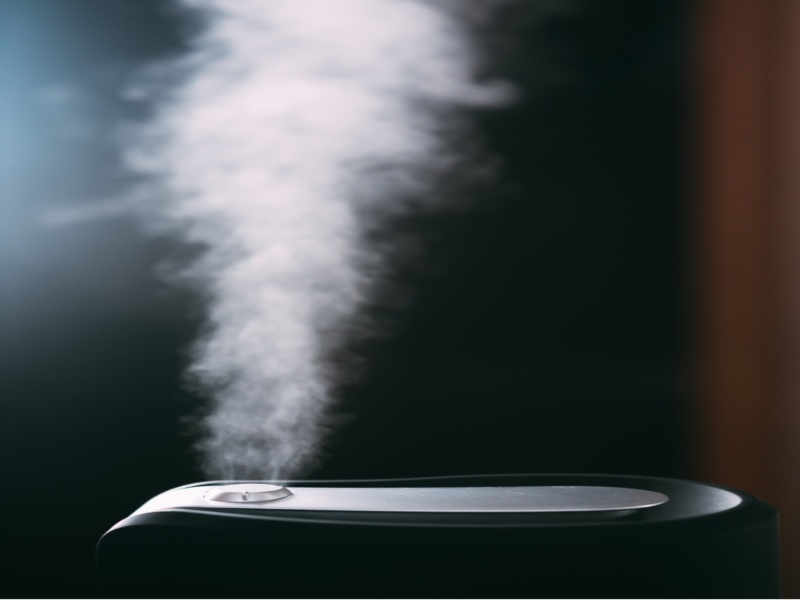smoke: (151, 1, 483, 494)
